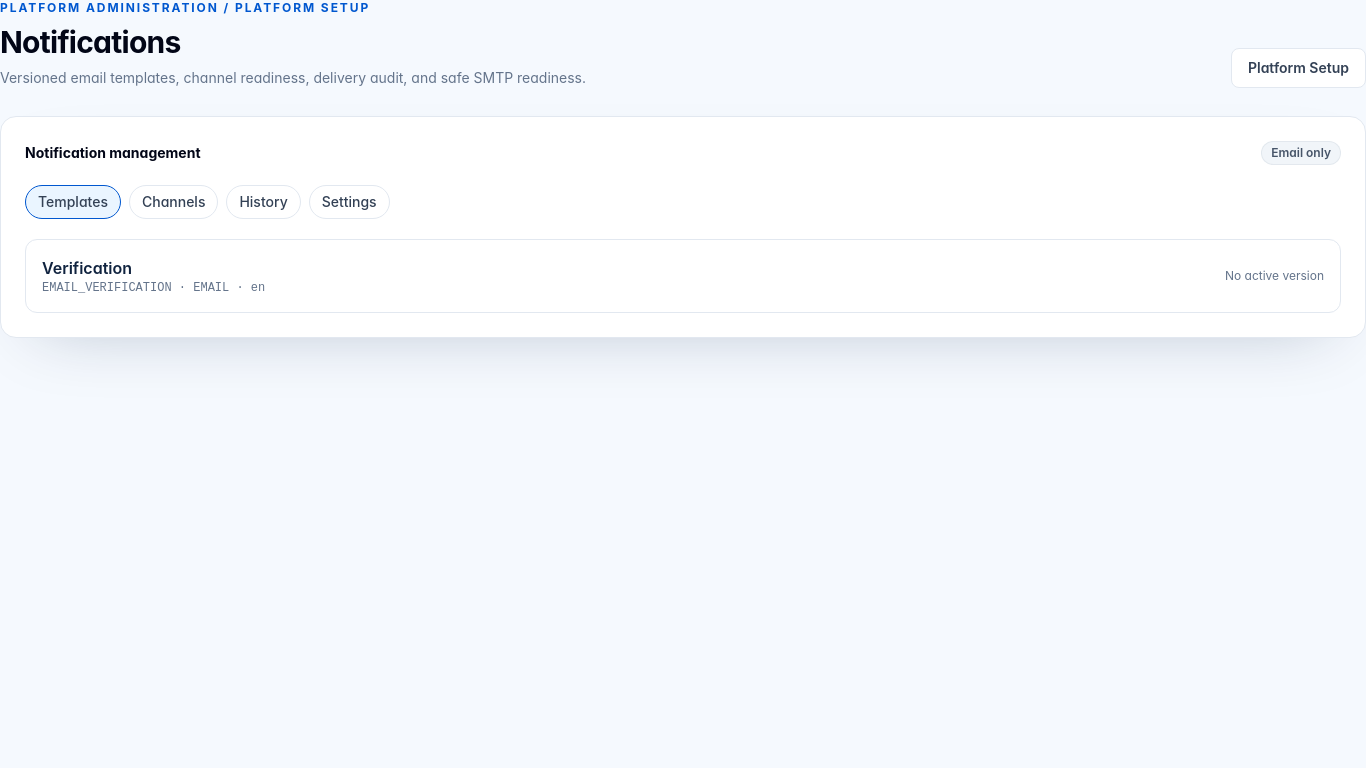
Test: Notification management setup › previews selected versions only with synthetic values
Click the button that starts with "Verification" at (87, 268), box [25,239,1341,313]
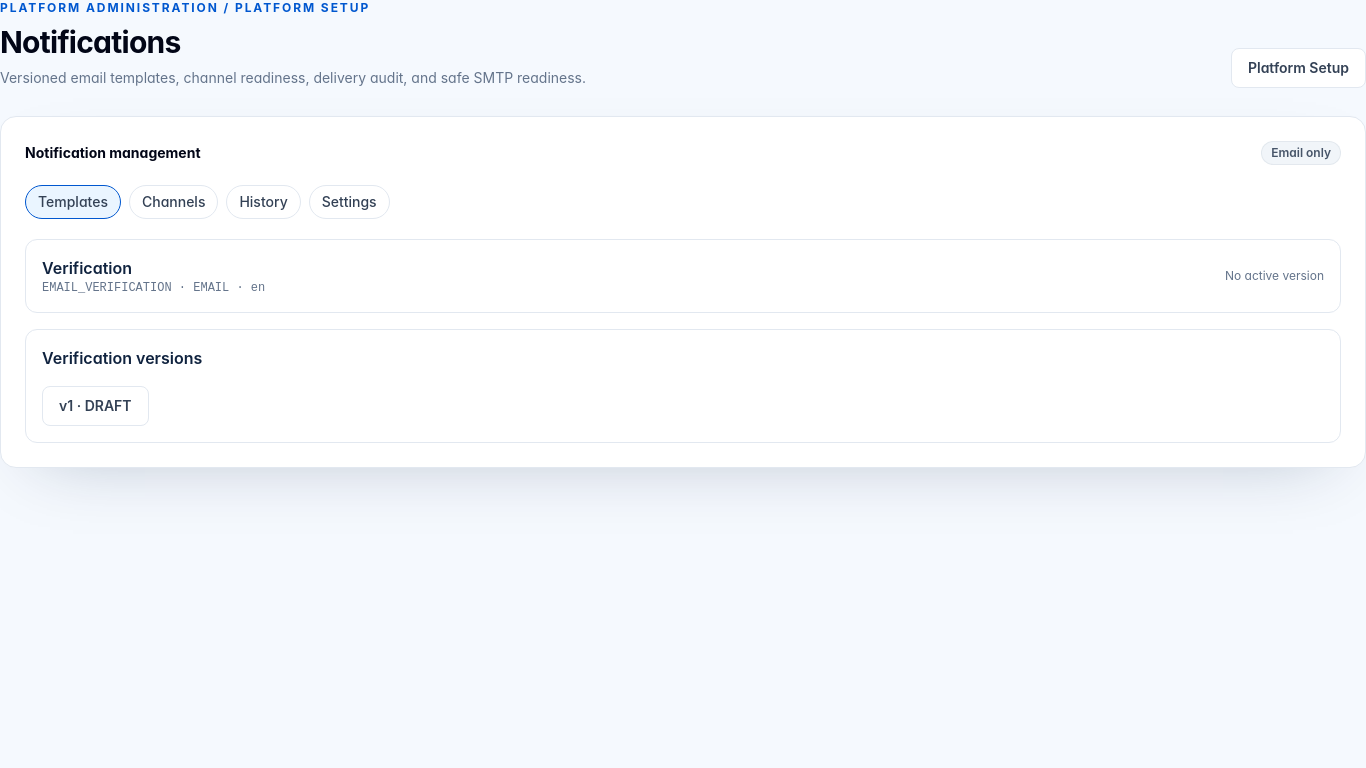
Click the button "v1 · DRAFT" at (95, 406), box [42,386,149,426]
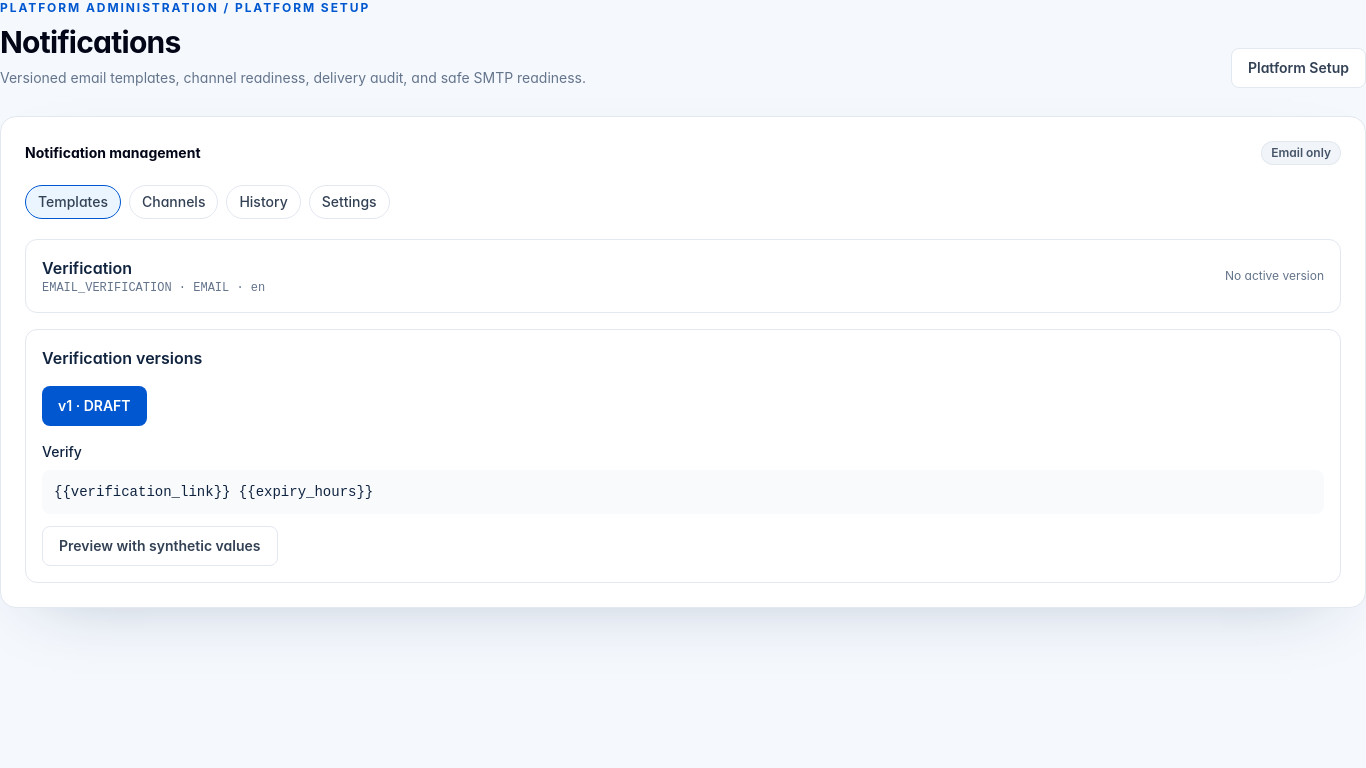
Click the button "Preview with synthetic values" at (160, 546), box [42,526,278,566]
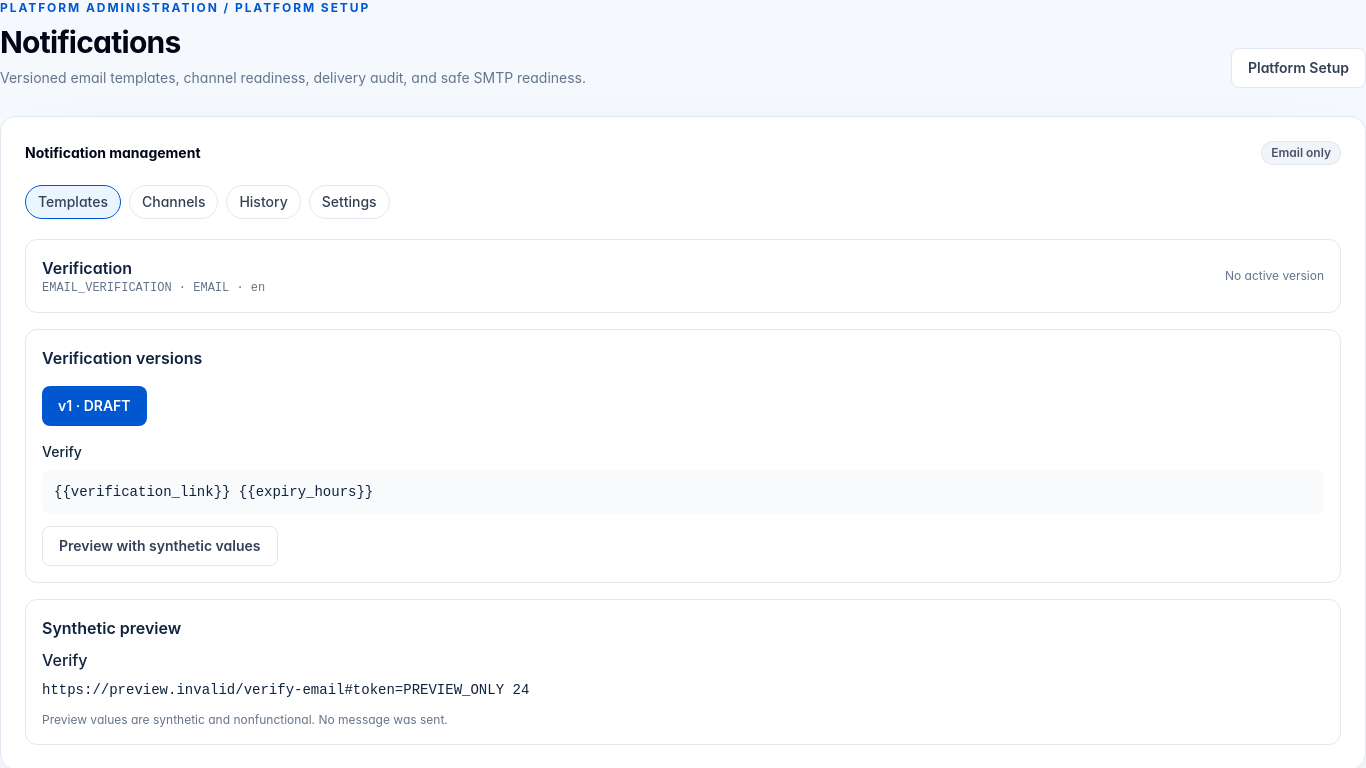
Now the text "https://preview.invalid/verify-email#token=PREVIEW_ONLY 24" is shown, box [42,682,529,698]
Now the text "Preview values are synthetic and nonfunctional. No message was sent." is shown, box [42,712,448,727]
